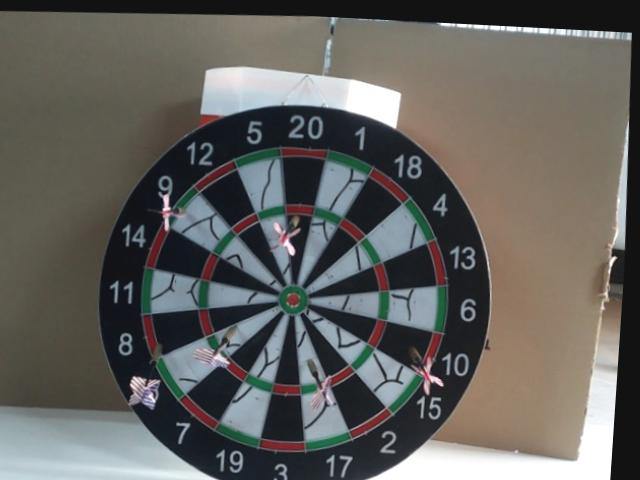single_10: (378, 324, 432, 372)
single_16: (216, 309, 275, 358)
single_17: (296, 317, 325, 385)
single_20: (280, 216, 309, 285)
single_8: (152, 311, 206, 356)
single_9: (172, 196, 229, 251)
